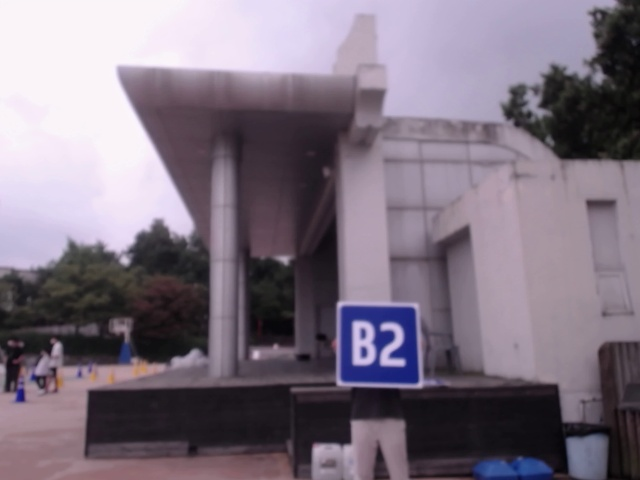delivery_b2: (339, 301, 424, 389)
